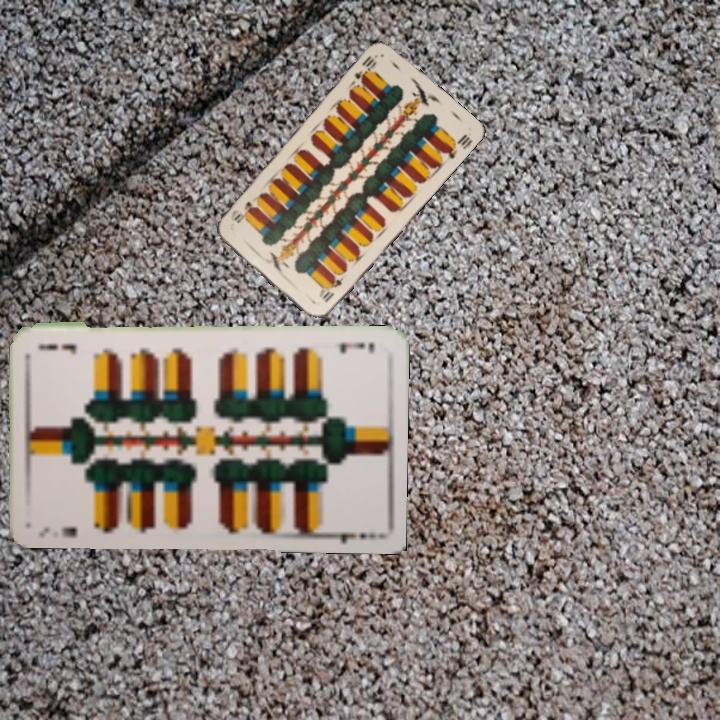E10: (315, 273, 346, 305), (350, 51, 379, 85)
E7: (35, 522, 80, 540), (335, 338, 376, 356)
